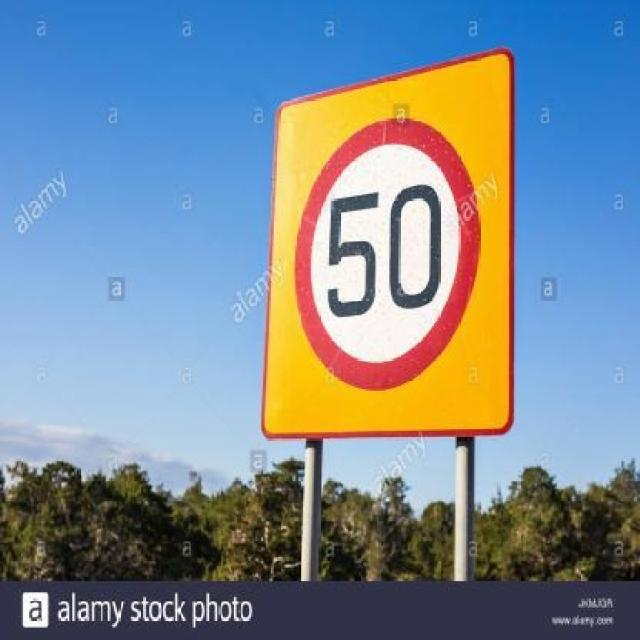forb_speed_over_50: (294, 123, 477, 386)
